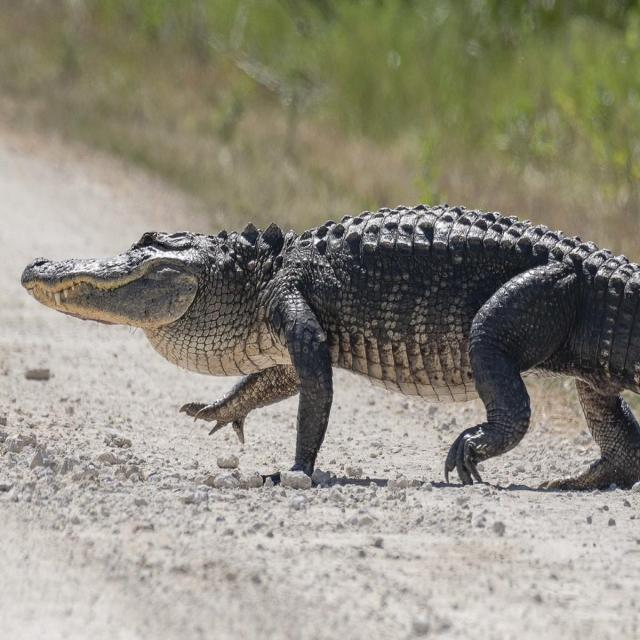crocodile: (0, 175, 639, 539)
